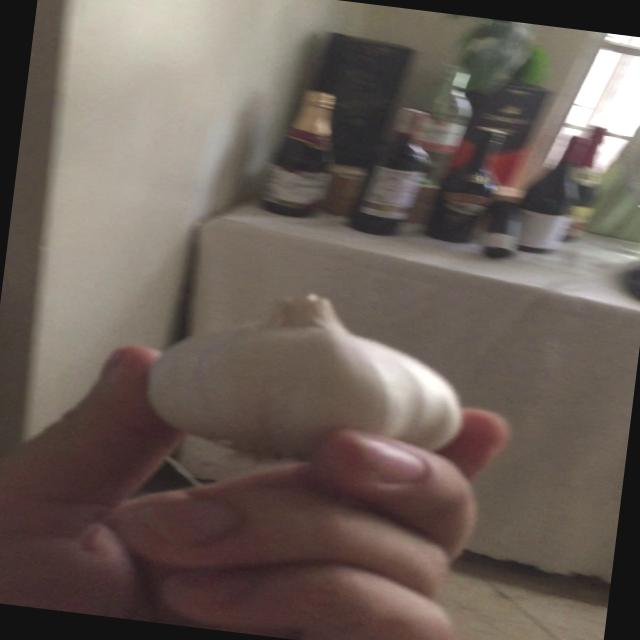bawang: (139, 268, 482, 488)
